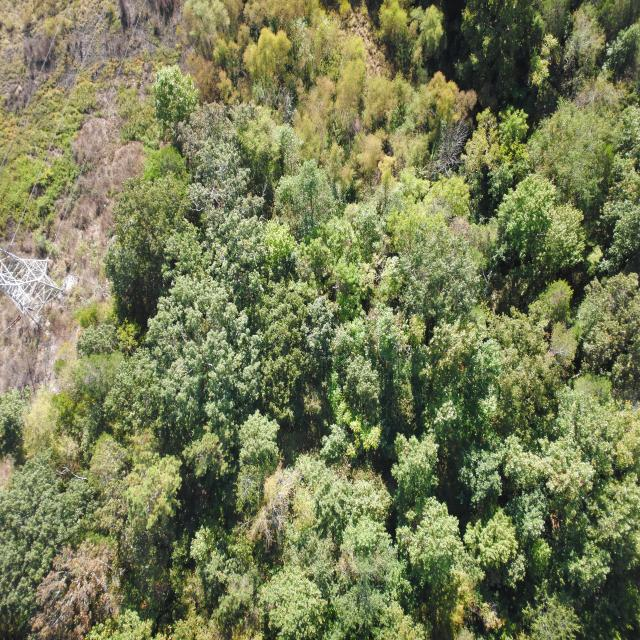Area of Interest: (11, 22, 633, 633)
